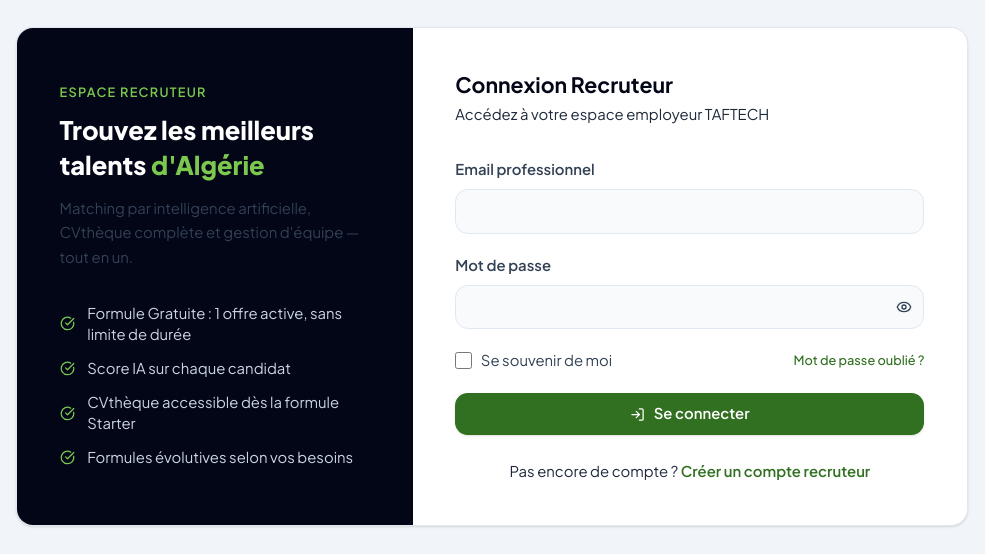
🔐 Connexion recruteur : erreurs sous les champs › 🔴 mauvais identifiants : message sous le mot de passe, effacé dès la frappe
Type "rh@entreprise.dz" into the field at (690, 211), box top-left (455, 189), bottom-right (924, 234)
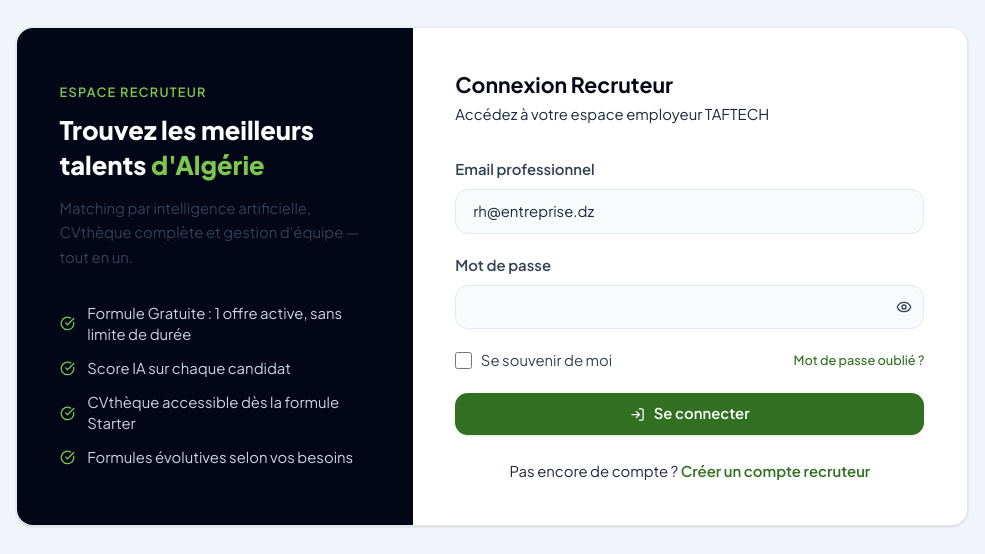
Type "faux" into the password field at (690, 307), box top-left (455, 284), bottom-right (924, 329)
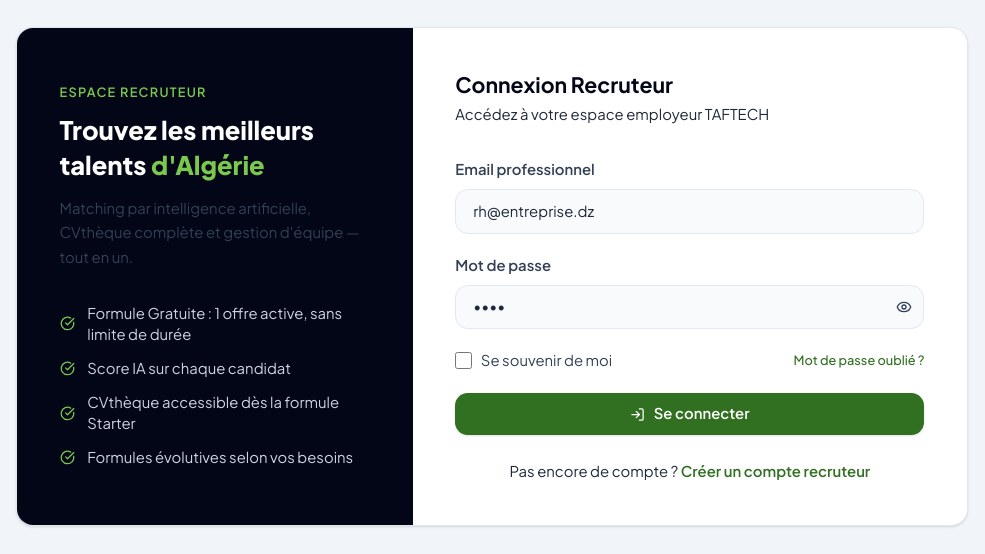
Submit the form, box top-left (455, 159), bottom-right (924, 435)
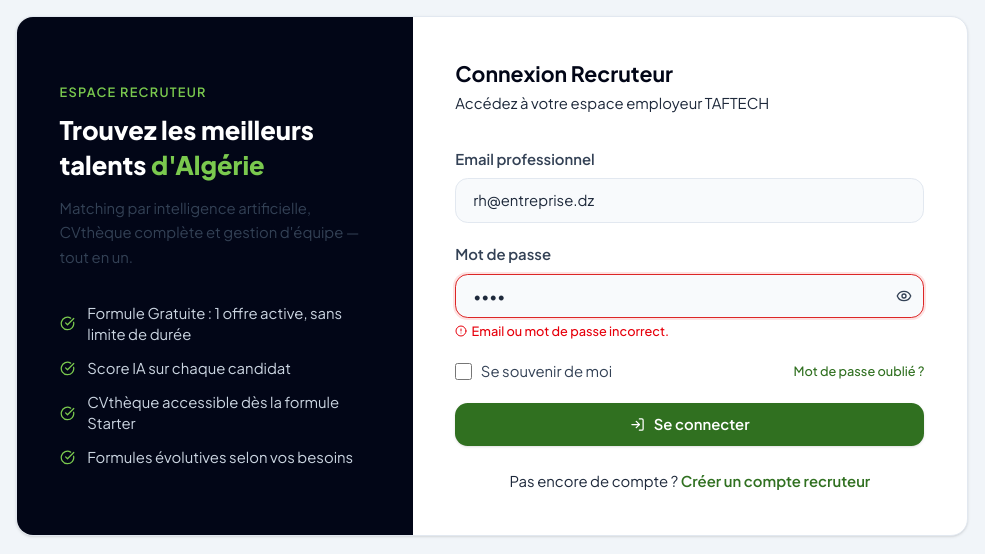
Expected: the text "Email ou mot de passe incorrect." is shown, top-left (455, 323), bottom-right (669, 339)
Type "faux2" into the password field at (690, 296), box top-left (455, 274), bottom-right (924, 318)
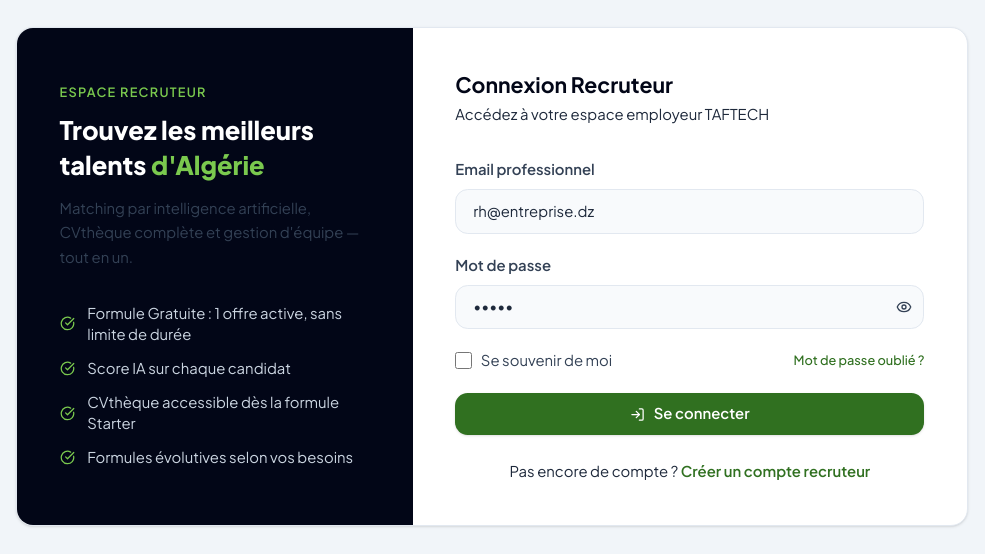
Expected: the text "Email ou mot de passe incorrect." is gone
